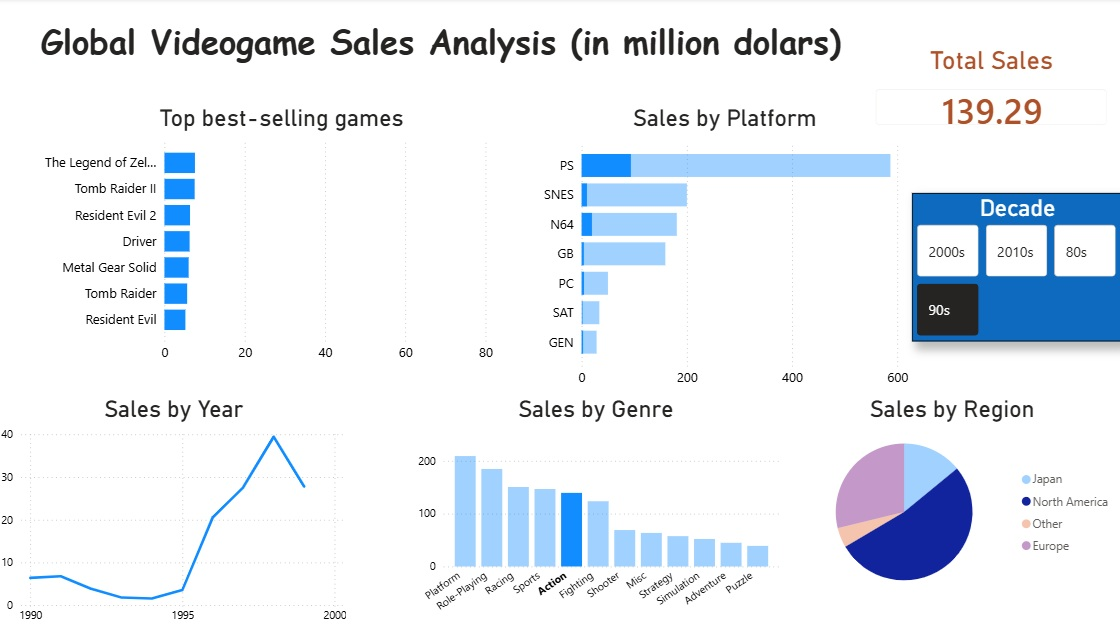

The page's visual inventory and layout, read from the dashboard file:
{"tool":"powerbi","page":{"name":"Página 1","canvas":[1280,720],"ordinal":0},"visuals":[{"type":"clusteredBarChart","title":"Top best-selling games","fields":{"Category":["clean_sales_enriched.Name"],"Y":["Sum(clean_sales_enriched.Global_Sales)"]},"box":[32,121,582,302.6],"z":0},{"type":"clusteredColumnChart","title":"Sales by Genre","fields":{"Category":["clean_sales_enriched.Genre"],"Y":["Sum(clean_sales_enriched.Global_Sales)"]},"box":[468.1,452.1,427.1,268.7],"z":1000},{"type":"clusteredBarChart","title":"Sales by Platform","fields":{"Category":["clean_sales_enriched.Platform"],"Y":["Sum(clean_sales_enriched.Global_Sales)"]},"box":[614,121,427.1,331],"z":2000},{"type":"lineChart","title":"Sales by Year","fields":{"Category":["clean_sales_enriched.Year"],"Y":["Sum(clean_sales_enriched.Global_Sales)"]},"box":[0,452.1,402.2,268.7],"z":3000},{"type":"pieChart","title":"Sales by Region","fields":{"Y":["Sum(clean_sales_enriched.JP_Sales)","Sum(clean_sales_enriched.NA_Sales)","Sum(clean_sales_enriched.Other_Sales)","Sum(clean_sales_enriched.EU_Sales)"]},"box":[895.2,452.1,384.4,234.9],"z":4000},{"type":"textbox","box":[32,17.8,932.6,71.2],"z":5000},{"type":"cardVisual","title":"Total Sales","fields":{"Data":["Sum(clean_sales_enriched.Global_Sales)"]},"box":[982.4,53.4,297.2,108.6],"z":6000},{"type":"advancedSlicerVisual","fields":{"Values":["clean_sales_enriched.Decade"]},"box":[1041.2,222.5,238.5,169.1],"z":7000}]}

Visuals, with their boxes in screenshot pixels (x1, y1, x2, y2), scaled from the page's 1280x720 canvas onto the 1120x627 screenshot:
"Top best-selling games" clusteredBarChart: [28, 105, 537, 369]
"Sales by Genre" clusteredColumnChart: [410, 394, 783, 626]
"Sales by Platform" clusteredBarChart: [537, 105, 911, 394]
"Sales by Year" lineChart: [0, 394, 352, 626]
"Sales by Region" pieChart: [783, 394, 1119, 598]
textbox: [28, 16, 844, 78]
"Total Sales" cardVisual: [860, 47, 1119, 141]
advancedSlicerVisual - clean_sales_enriched.Decade: [911, 194, 1119, 341]
